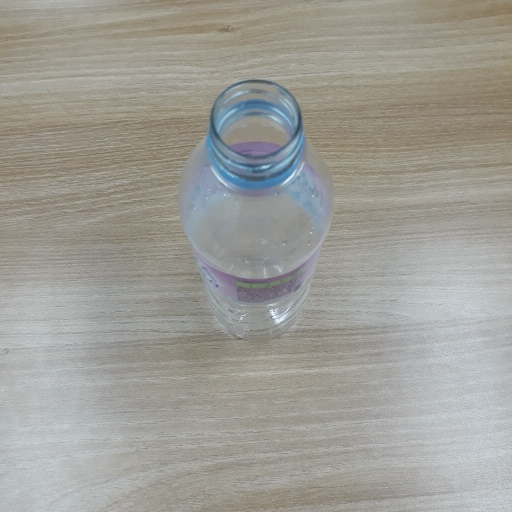Plastic_0: (177, 77, 334, 343)
